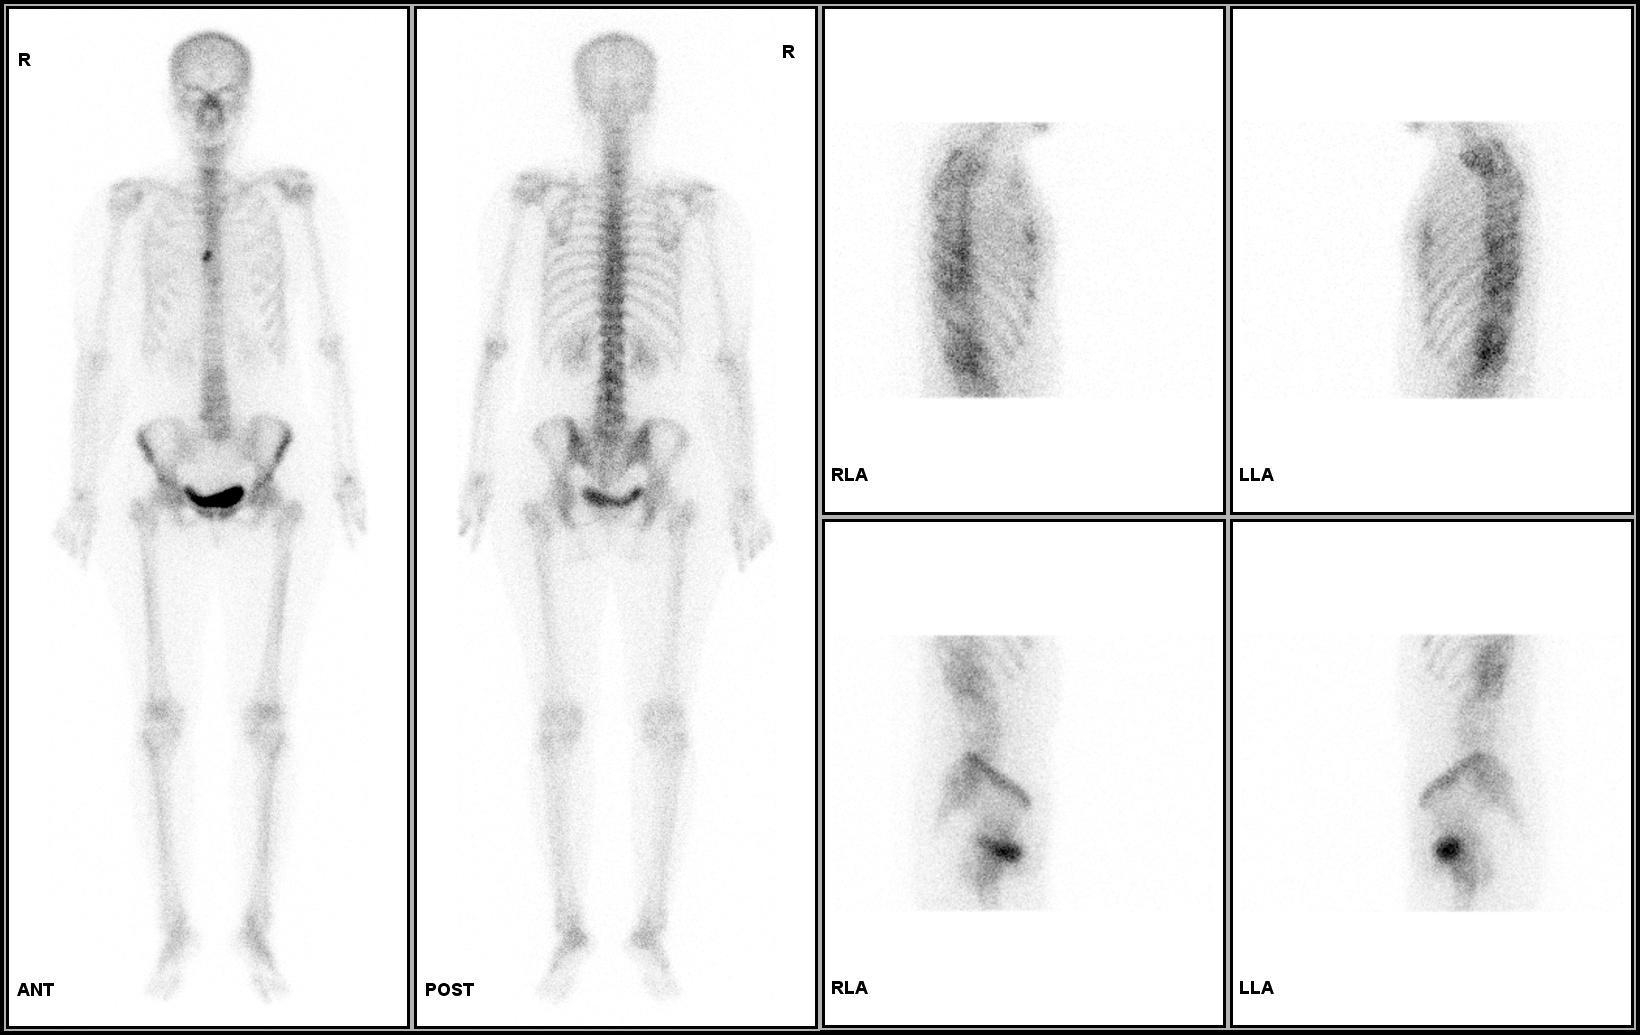person: (7, 6, 819, 1027)
